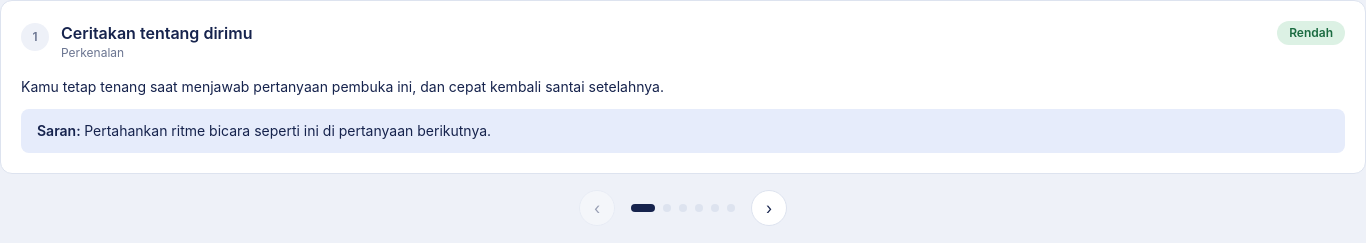
Test: the per-question slider › moves to the next question and back
Click the button named "Pertanyaan berikutnya". click: point(769, 208)
box: [751,190,787,226]
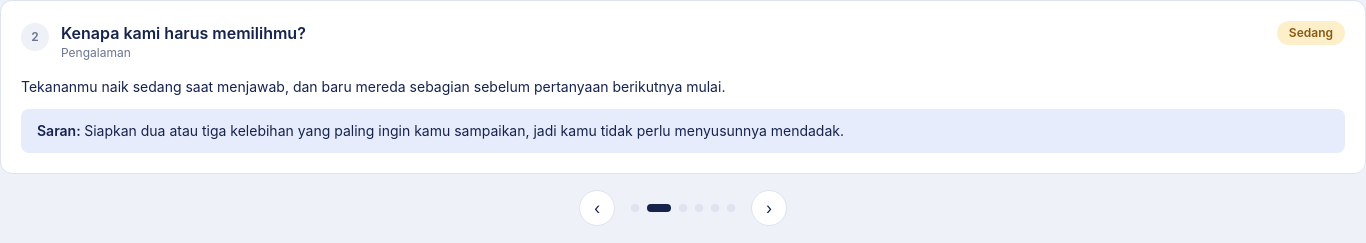
Check: the text "Kenapa kami harus memilihmu?" is shown, box [61,21,306,45]
Click the button named "Pertanyaan sebelumnya". click: point(597, 208)
box: [579,190,615,226]
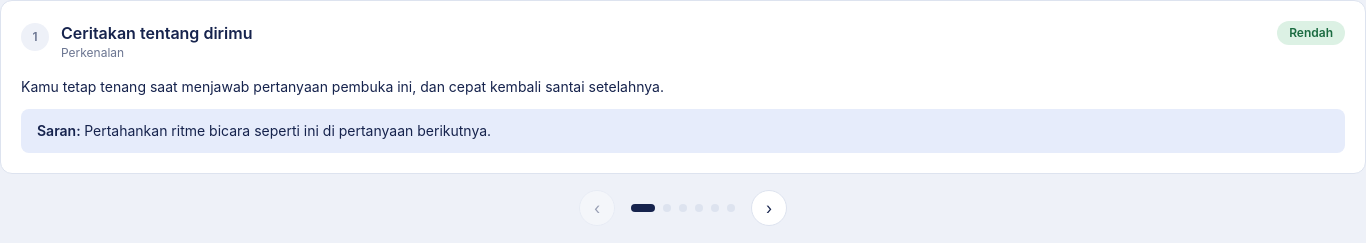
Check: the text "Ceritakan tentang dirimu" is shown, box [61,21,252,45]
